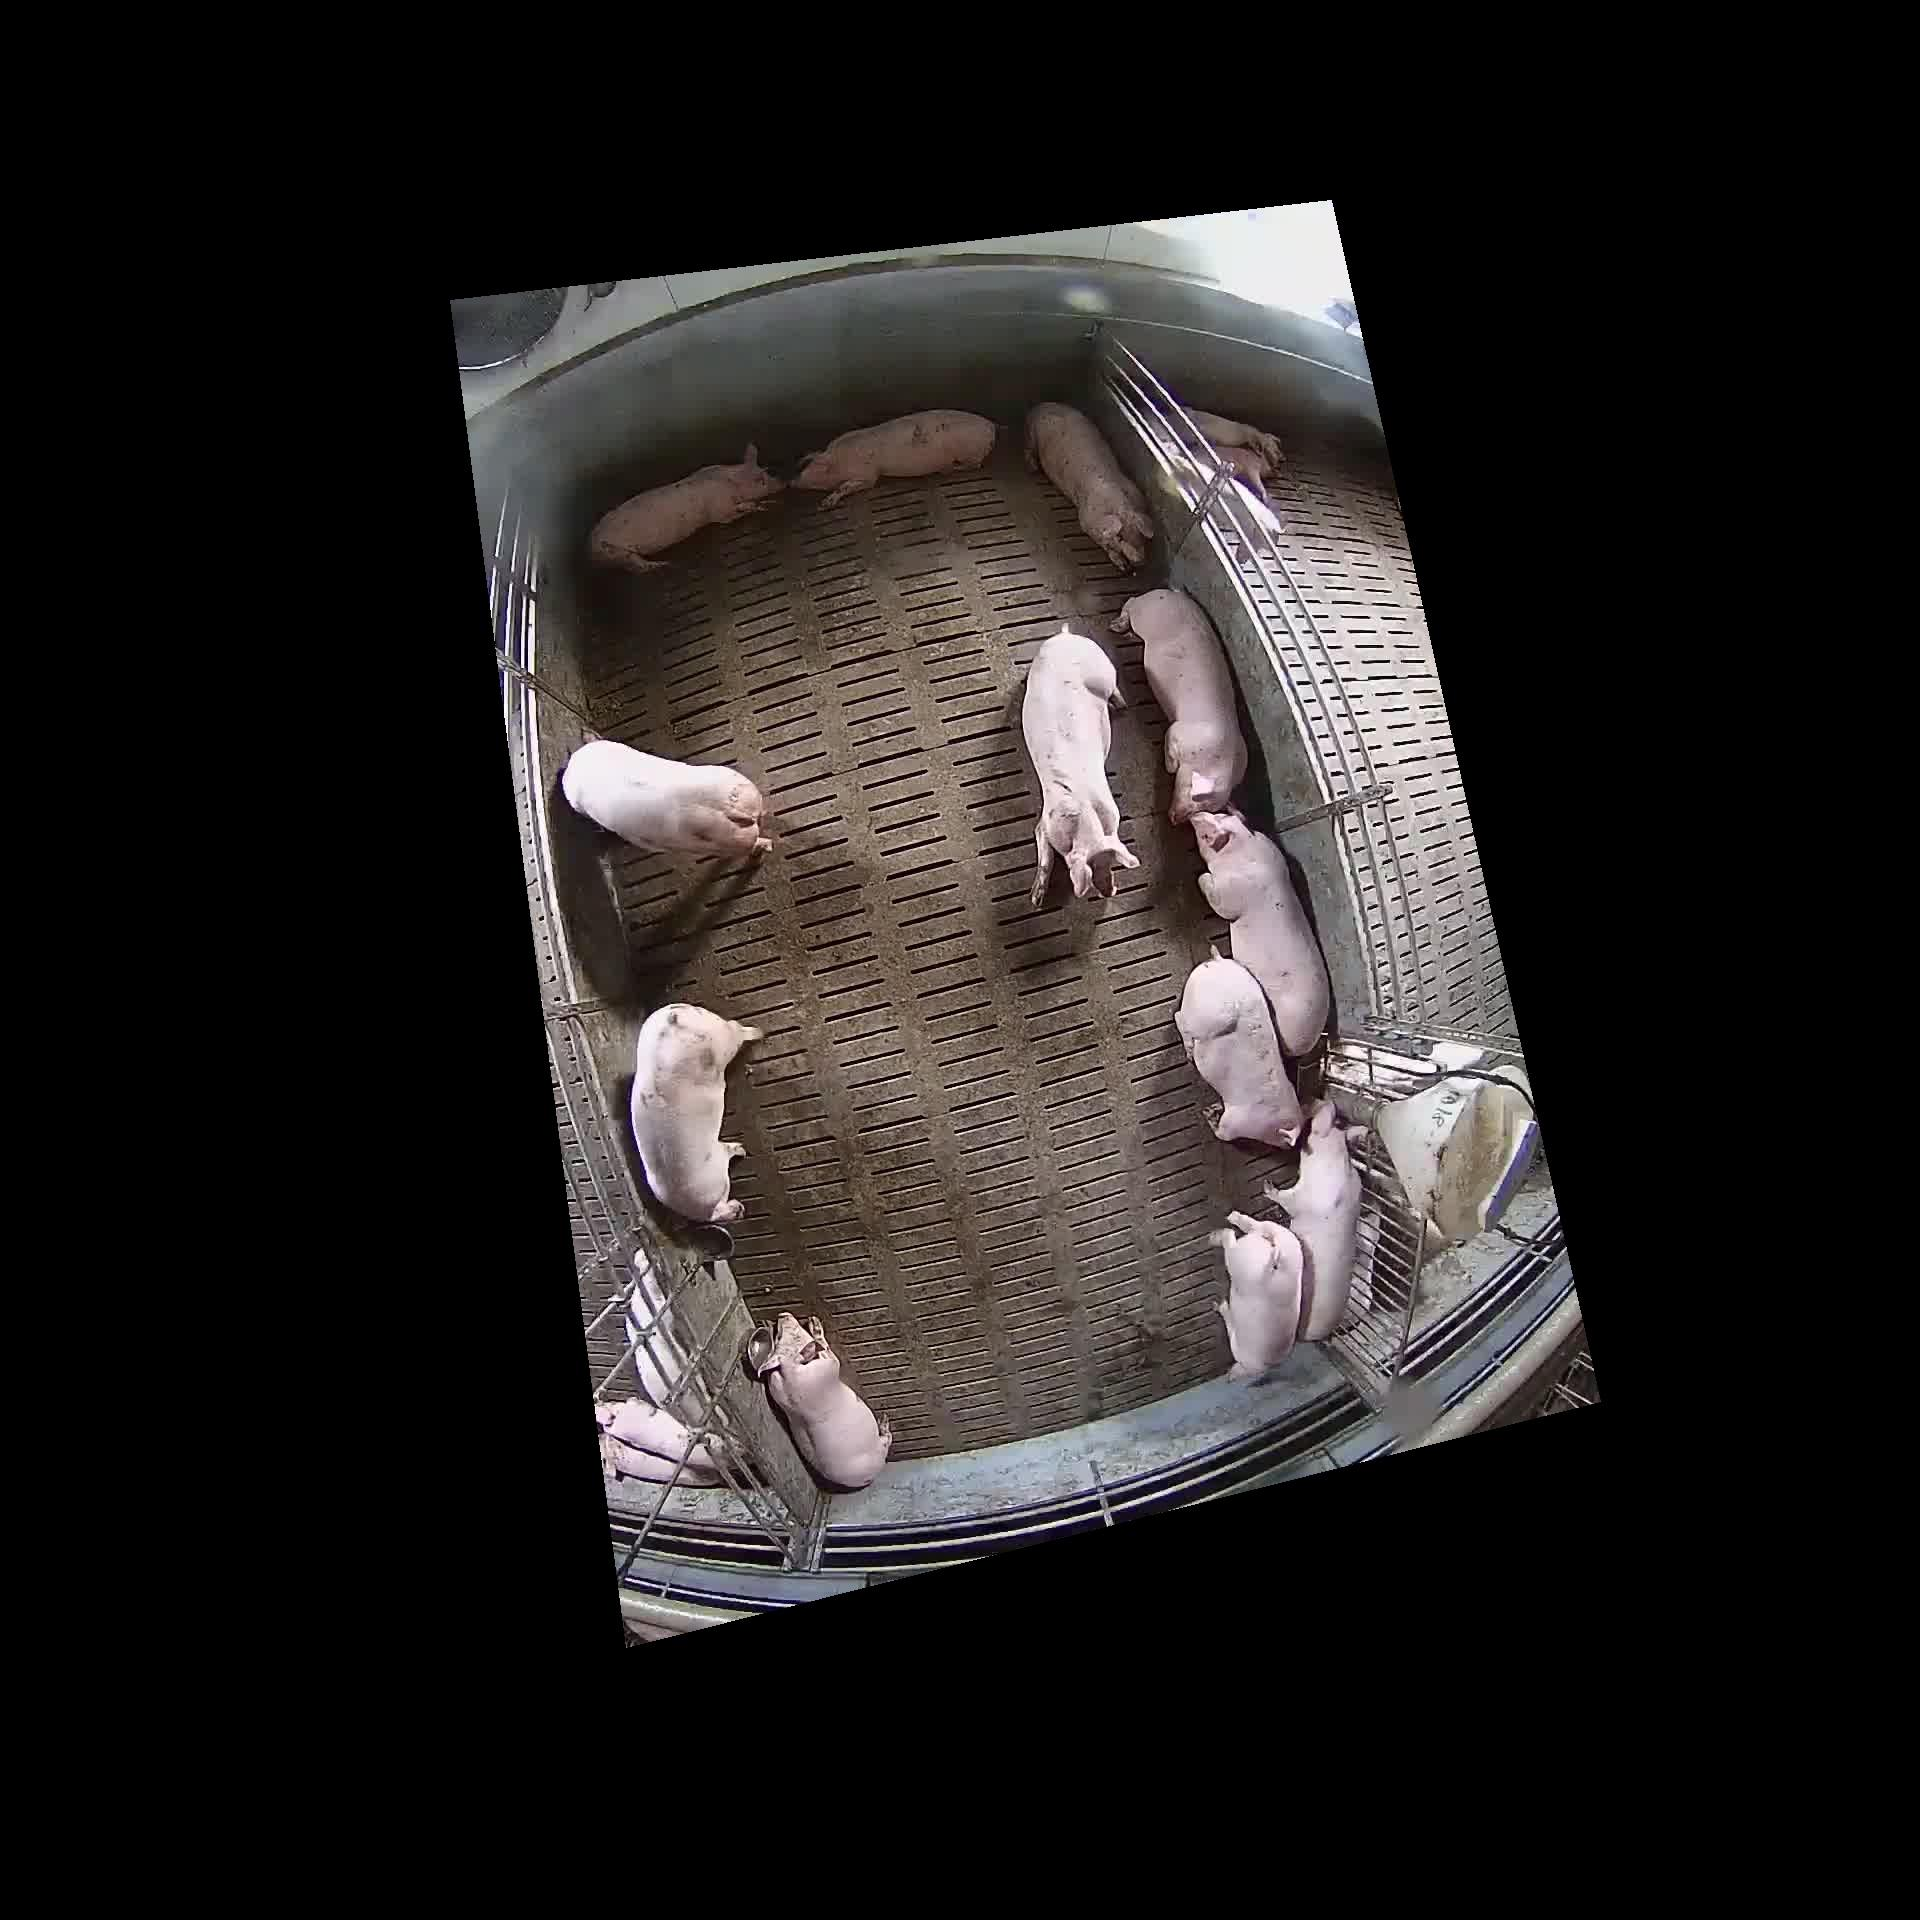pig: (1022, 622, 1134, 900), (1199, 816, 1329, 1053), (1116, 587, 1245, 819), (559, 728, 772, 858), (636, 1007, 753, 1220), (1176, 948, 1303, 1139), (591, 445, 779, 568), (1266, 1101, 1363, 1340), (765, 1312, 890, 1486), (1032, 408, 1148, 561), (796, 411, 993, 501), (1210, 1210, 1301, 1378)
